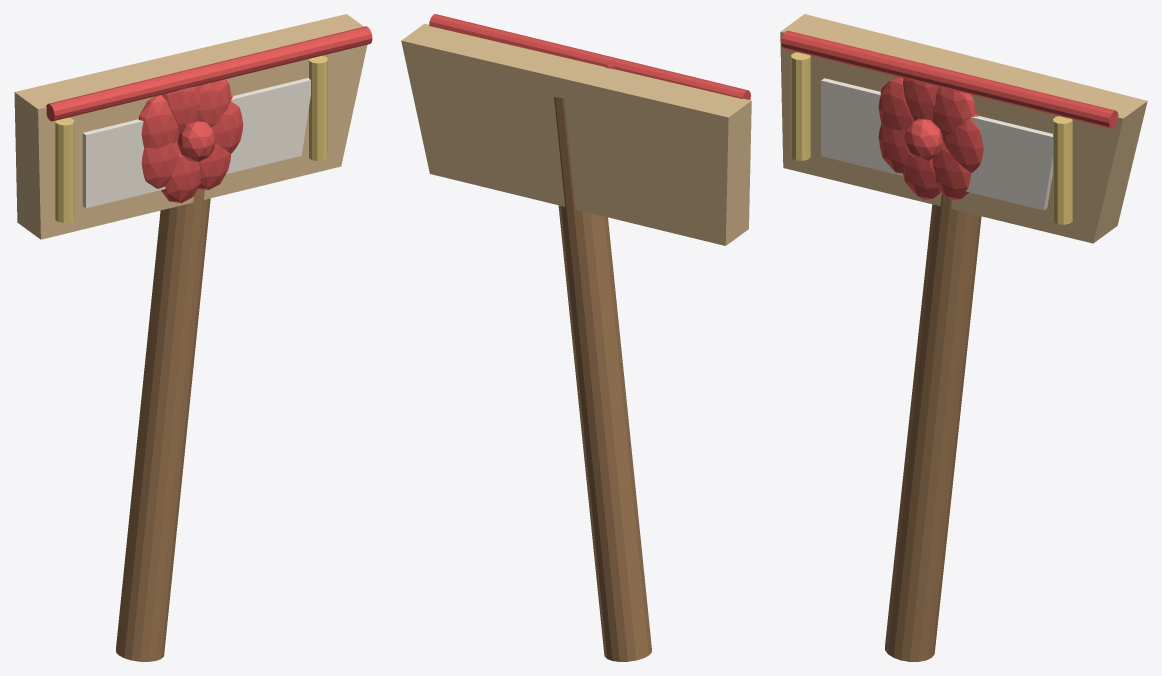
The model's file is local_dengaku_hoe_prop.glb.
3 renders of one model, left to right at view 1: azimuth 30°, elevation 25°; view 2: azimuth 150°, elevation 25°; view 3: azimuth 330°, elevation 25°, orthographic. The views are drawn at different scales.
Parts seen in each view (by area): view 1: Lightweight festival ritual hoe prop, Dengaku hoe carved wooden handle, Bright wooden dancing hoe inset crest, Red and gold top ornament, Gilded ritual hoe reinforced rim, Gilded ritual hoe reinforced rim.001, Dengaku carved tool maker emblem petal.003, Dengaku carved tool maker emblem petal.004, Dengaku carved tool maker emblem petal.005, Dengaku carved tool maker emblem center, Dengaku carved tool maker emblem petal.001, Dengaku carved tool maker emblem petal.002 (+2 smaller); view 2: Lightweight festival ritual hoe prop, Dengaku hoe carved wooden handle, Red and gold top ornament; view 3: Lightweight festival ritual hoe prop, Dengaku hoe carved wooden handle, Bright wooden dancing hoe inset crest, Red and gold top ornament, Gilded ritual hoe reinforced rim.001, Gilded ritual hoe reinforced rim, Dengaku carved tool maker emblem petal.001, Dengaku carved tool maker emblem petal, Dengaku carved tool maker emblem petal.006, Dengaku carved tool maker emblem petal.003, Dengaku carved tool maker emblem center, Dengaku carved tool maker emblem petal.005 (+2 smaller).
Boxes of the visible parts, x1,y1,x2,y2 form: Lightweight festival ritual hoe prop: (14,14,367,239); Dengaku hoe carved wooden handle: (116,188,210,661); Bright wooden dancing hoe inset crest: (82,77,310,208); Red and gold top ornament: (46,26,372,121); Gilded ritual hoe reinforced rim: (55,117,74,222); Gilded ritual hoe reinforced rim.001: (309,55,327,160); Dengaku carved tool maker emblem petal.003: (138,95,179,148); Dengaku carved tool maker emblem petal.004: (141,141,179,188); Dengaku carved tool maker emblem petal.005: (161,150,200,203); Dengaku carved tool maker emblem center: (177,121,215,161); Dengaku carved tool maker emblem petal.001: (197,79,231,127); Dengaku carved tool maker emblem petal.002: (161,70,200,131); Lightweight festival ritual hoe prop: (401,23,751,245); Dengaku hoe carved wooden handle: (554,96,651,661); Red and gold top ornament: (429,14,750,99); Lightweight festival ritual hoe prop: (780,14,1147,243); Dengaku hoe carved wooden handle: (885,194,981,661); Bright wooden dancing hoe inset crest: (821,78,1052,210); Red and gold top ornament: (781,30,1118,128); Gilded ritual hoe reinforced rim.001: (1053,116,1072,224); Gilded ritual hoe reinforced rim: (791,52,810,160); Dengaku carved tool maker emblem petal.001: (933,87,976,138); Dengaku carved tool maker emblem petal: (942,114,983,172); Dengaku carved tool maker emblem petal.006: (933,141,970,200); Dengaku carved tool maker emblem petal.003: (878,77,913,131); Dengaku carved tool maker emblem center: (903,118,942,160); Dengaku carved tool maker emblem petal.005: (903,154,940,199).
Bounding box in the file's own units: 1.15 × 1.95 × 0.2551.
